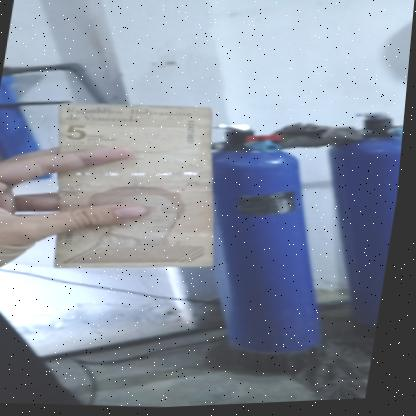five-front-vef: (37, 96, 242, 281)
